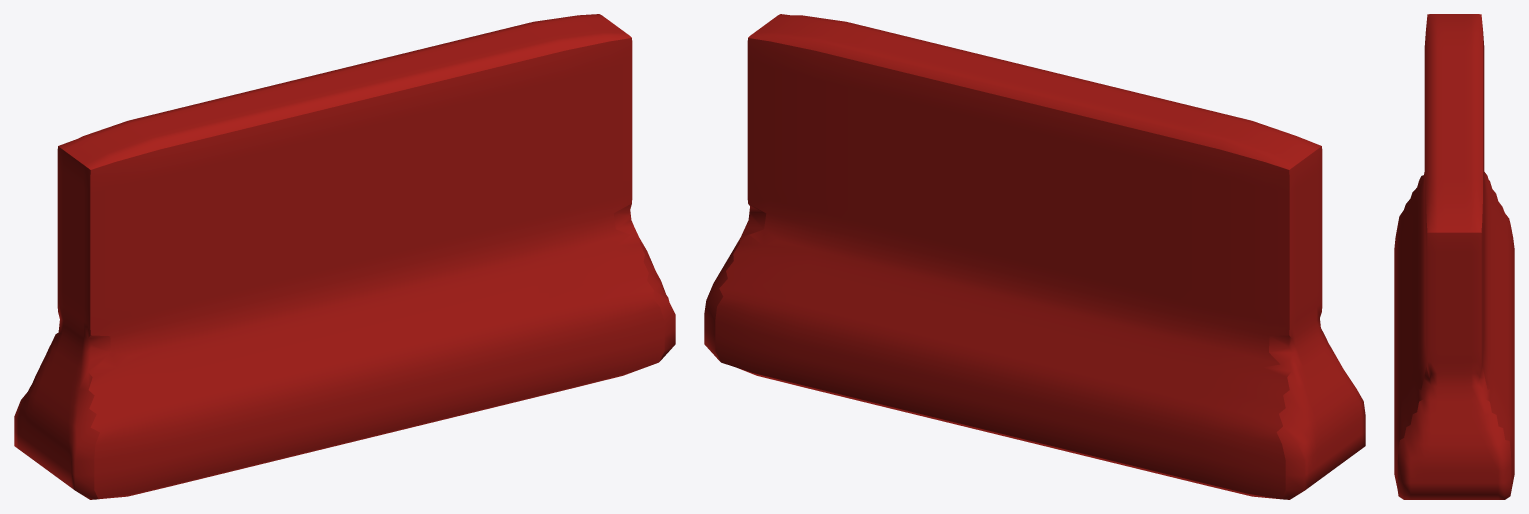
The model's file is water_block.glb.
The picture shows the model from 3 angles, left to right: view 1: azimuth 30°, elevation 25°; view 2: azimuth 150°, elevation 25°; view 3: azimuth 270°, elevation 25°; orthographic projection. The views are drawn at different scales.
Visible parts, largest first — view 1: Cube.001; view 2: Cube.001; view 3: Cube.001.
Boxes of the visible parts, x1,y1,x2,y2 form: Cube.001: (14,14,675,499); Cube.001: (704,14,1365,499); Cube.001: (1394,14,1514,499).
Size of the model in its own units: 6.39 by 3.39 by 1.34.
